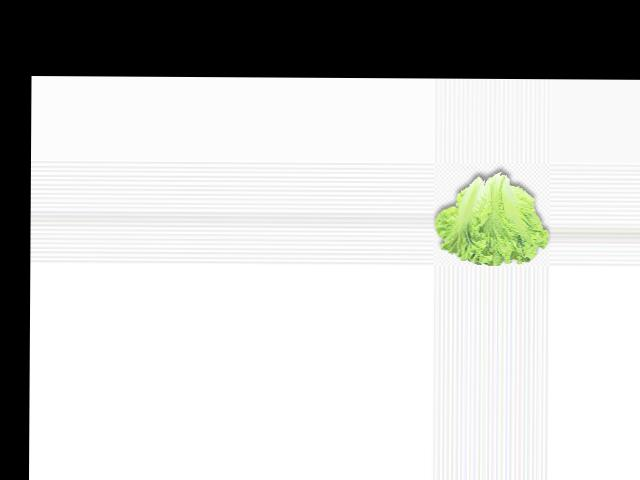lettuce: (431, 169, 547, 265)
